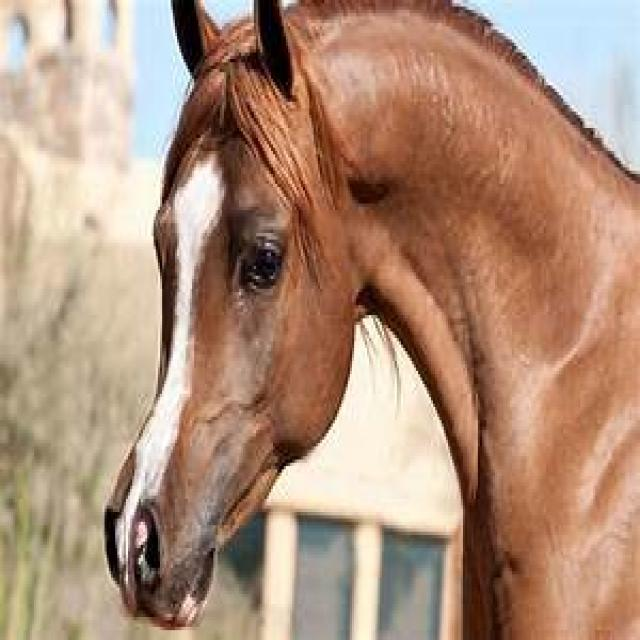horse: (105, 4, 640, 637)
